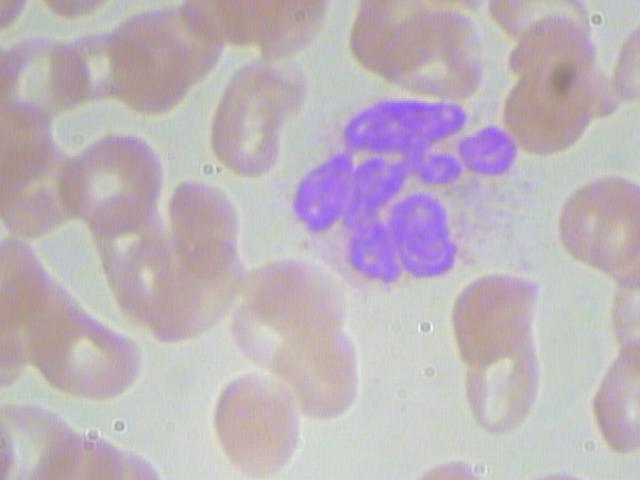RBC: (206, 52, 309, 179), (502, 57, 610, 157), (381, 2, 489, 102), (205, 369, 302, 480), (270, 319, 367, 430), (37, 303, 144, 403), (61, 131, 160, 236), (247, 248, 352, 336), (451, 271, 544, 365), (453, 340, 546, 434), (555, 172, 640, 274), (164, 173, 245, 279), (103, 25, 193, 113), (1, 138, 80, 238), (1, 32, 89, 120), (106, 228, 182, 319)
